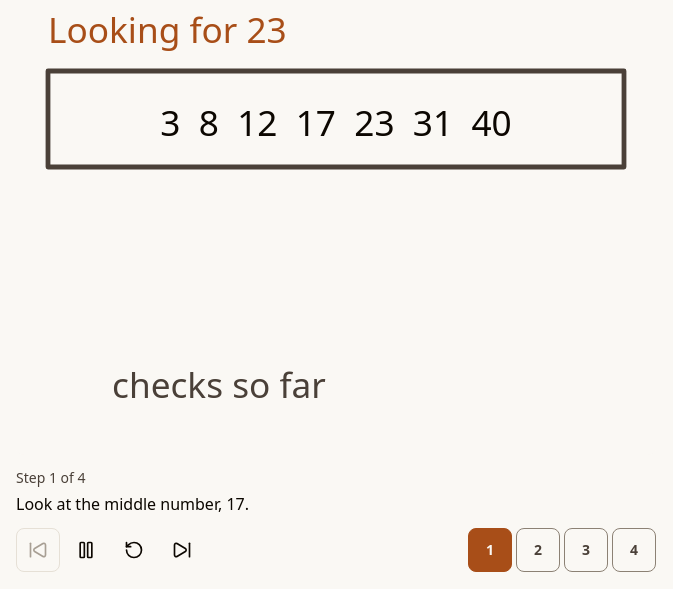
Test: the learner moves through the steps (AN-12)
Click the button named "Next": {"x": 182, "y": 550} [160,528,204,572]
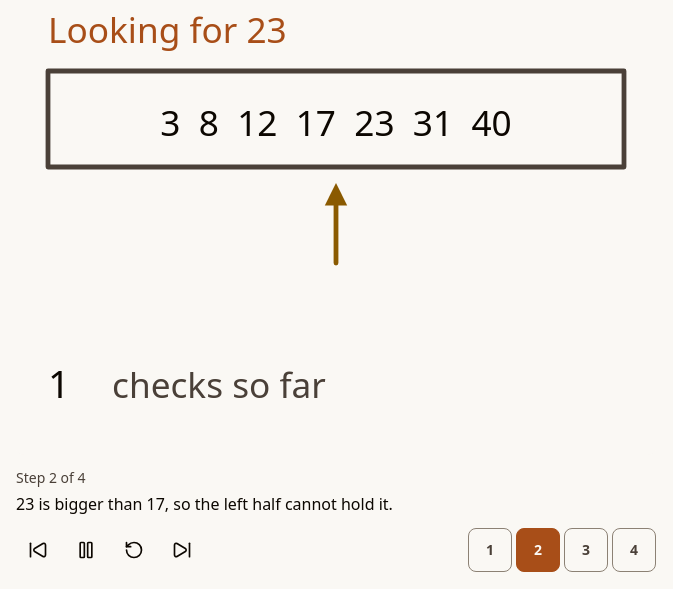
Click the button named "Pause": {"x": 86, "y": 550} [64,528,108,572]
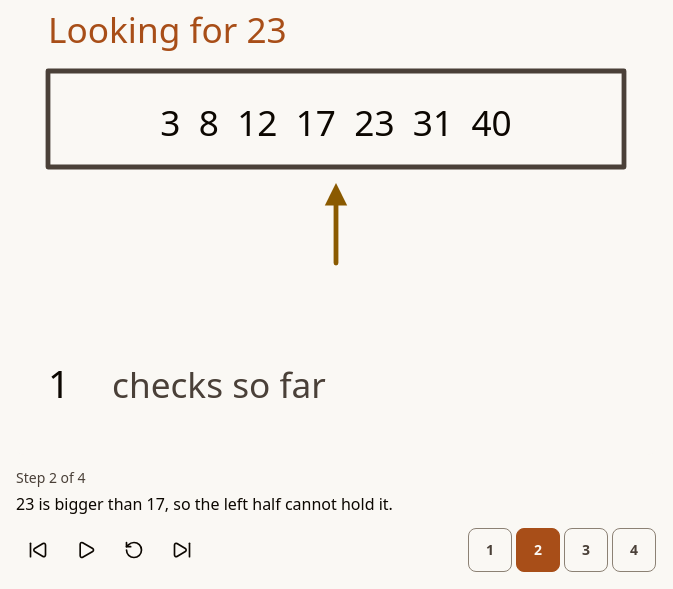
expect the text with class "an-caption-text" reads "23 is bigger than 17, so the left half cannot hold it.": met, box [16,493,393,515]
Click the button named "Next": {"x": 182, "y": 550} [160,528,204,572]
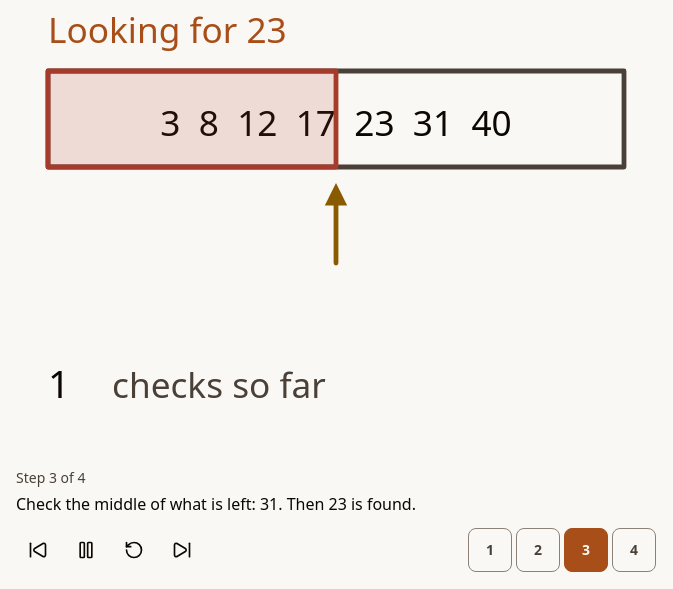
expect the text with class "an-caption-text" reads "Check the middle of what is left: 31. Then 23 is found.": met, box [16,493,416,515]
expect the button named "Pause" is shown: met, box [64,528,108,572]
